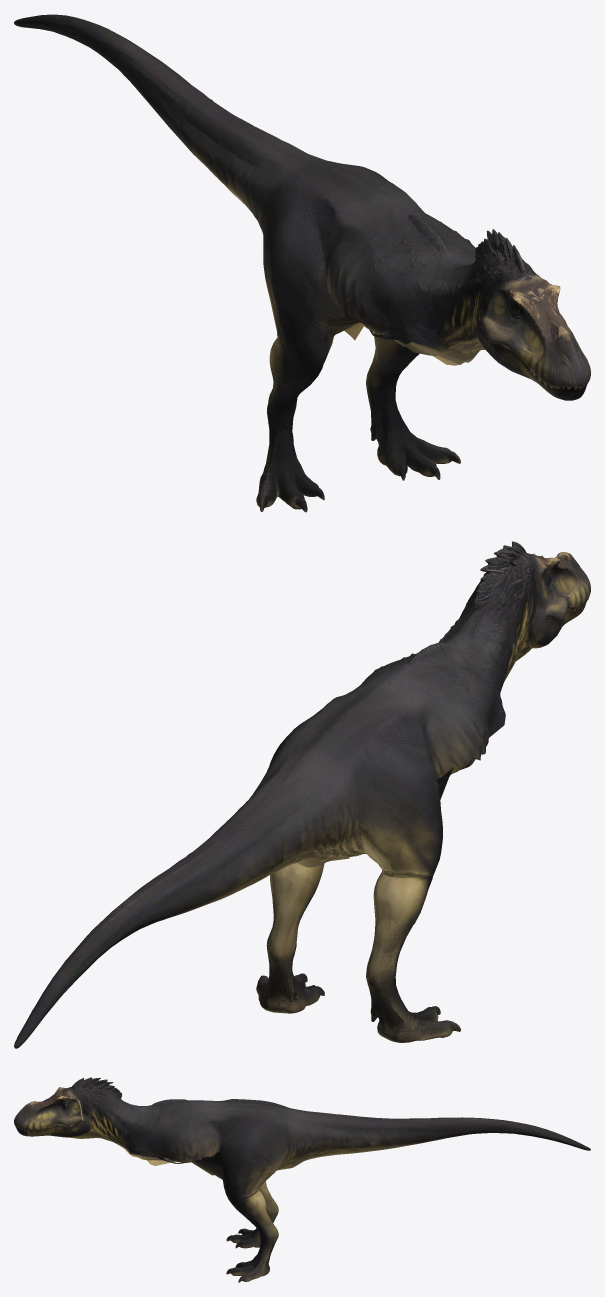
The model's file is imperator.glb.
3 renders of one model, top to bottom at view 1: azimuth 30°, elevation 25°; view 2: azimuth 150°, elevation 25°; view 3: azimuth 270°, elevation 25°, orthographic. The views are drawn at different scales.
Size of the model in its own units: 0.3874 by 0.6595 by 1.9.
Materials: 1 (1 with a texture image).
